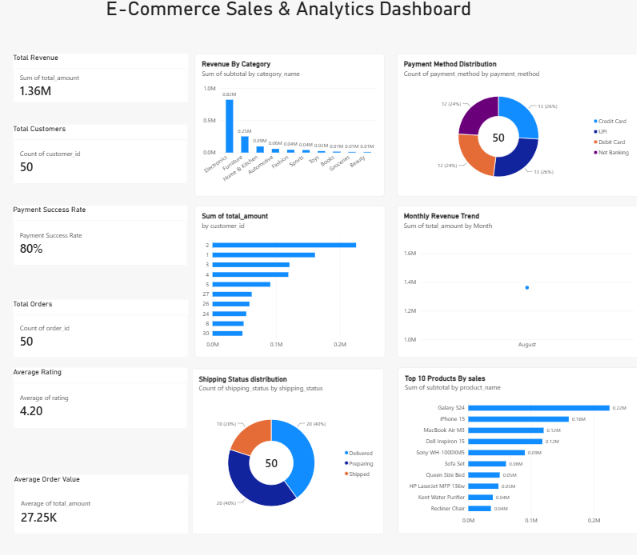

This screenshot's page, from the dashboard's own definition file:
{"tool":"powerbi","page":{"name":"Executive Overview","canvas":[1600,1400],"ordinal":0},"visuals":[{"type":"cardVisual","title":"Total Revenue","fields":{"Data":["Sum(ecommerce_analytics orders.total_amount)"]},"box":[32,140,438,124],"z":0},{"type":"cardVisual","title":"Total Orders","fields":{"Data":["CountNonNull(ecommerce_analytics orders.order_id)"]},"box":[32,756,438,144],"z":1},{"type":"cardVisual","title":"Average Order Value","fields":{"Data":["Avg(ecommerce_analytics orders.total_amount)"]},"box":[34,1192,436,148],"z":2},{"type":"cardVisual","title":"Total Customers","fields":{"Data":["CountNonNull(ecommerce_analytics customers.customer_id)"]},"box":[32,318,436,148],"z":3},{"type":"cardVisual","title":"Payment Success Rate","fields":{"Data":["ecommerce_analytics payments.Payment Success Rate"]},"box":[32,520,436,150],"z":5},{"type":"cardVisual","title":"Average Rating","fields":{"Data":["Avg(ecommerce_analytics reviews.rating)"]},"box":[32,926,436,152],"z":6},{"type":"lineChart","title":"Monthly Revenue Trend","fields":{"Category":["ecommerce_analytics orders.order_date.Variation.Date Hierarchy.Month"],"Y":["Sum(ecommerce_analytics orders.total_amount)"]},"box":[993.3,520,610,380],"z":7},{"type":"clusteredColumnChart","title":"Revenue By Category","fields":{"Category":["ecommerce_analytics categories.category_name"],"Y":["Sum(ecommerce_analytics order_items.subtotal)"]},"box":[486.7,140,473.3,356.7],"z":8},{"type":"clusteredBarChart","title":"Top 10 Products By sales","fields":{"Category":["ecommerce_analytics products.product_name"],"Y":["Sum(ecommerce_analytics order_items.subtotal)"]},"box":[995,925,605,415],"z":9},{"type":"donutChart","title":"Payment Method Distribution","fields":{"Category":["ecommerce_analytics payments.payment_method"],"Y":["CountNonNull(ecommerce_analytics payments.payment_method)"]},"box":[993.3,140,606.7,356.7],"z":10},{"type":"donutChart","title":"Shipping Status distribution","fields":{"Category":["ecommerce_analytics shipping.shipping_status"],"Y":["CountNonNull(ecommerce_analytics shipping.shipping_status)"]},"box":[480,926.7,480,413.3],"z":11},{"type":"clusteredBarChart","fields":{"Category":["ecommerce_analytics orders.customer_id"],"Y":["Sum(ecommerce_analytics orders.total_amount)"]},"box":[486.7,520,475,380],"z":12},{"type":"textbox","box":[300,0,280,280],"z":13},{"type":"textbox","box":[264,0,976,88],"z":14}]}

Visuals, with their boxes in screenshot pixels (x1, y1, x2, y2), scaled from the page's 1600x1400 canvas onto the 637x555 screenshot:
"Total Revenue" cardVisual: [13,56,187,105]
"Total Orders" cardVisual: [13,300,187,357]
"Average Order Value" cardVisual: [14,473,187,531]
"Total Customers" cardVisual: [13,126,186,185]
"Payment Success Rate" cardVisual: [13,206,186,266]
"Average Rating" cardVisual: [13,367,186,427]
"Monthly Revenue Trend" lineChart: [395,206,636,357]
"Revenue By Category" clusteredColumnChart: [194,56,382,197]
"Top 10 Products By sales" clusteredBarChart: [396,367,636,531]
"Payment Method Distribution" donutChart: [395,56,636,197]
"Shipping Status distribution" donutChart: [191,367,382,531]
clusteredBarChart - ecommerce_analytics orders.customer_id x Sum(ecommerce_analytics orders.total_amount): [194,206,383,357]
textbox: [119,0,231,111]
textbox: [105,0,494,35]
